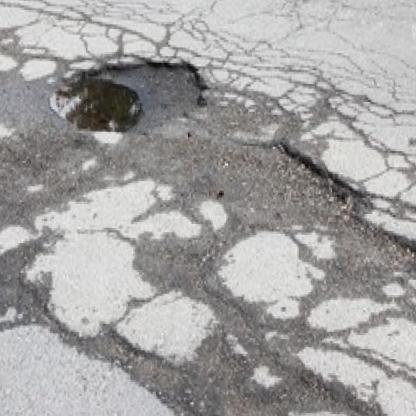pothole: (199, 133, 360, 239), (45, 52, 205, 144)
